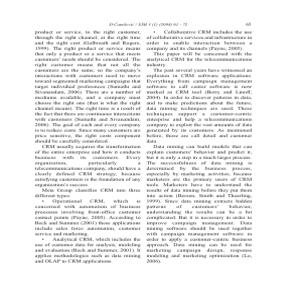text: (29, 29, 145, 267), (146, 28, 256, 266)
